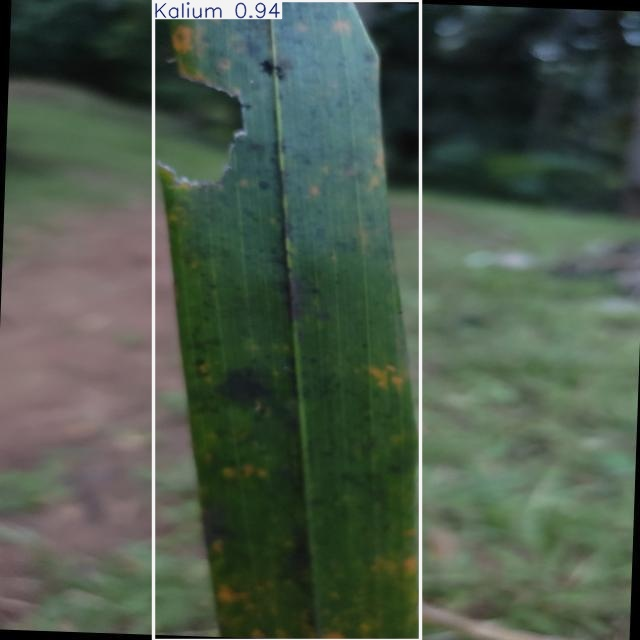Kalium: (154, 0, 421, 640)
